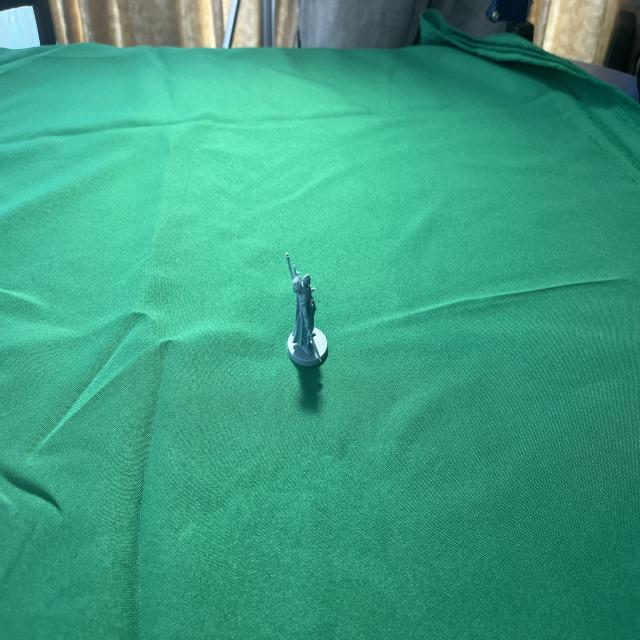isis_follower: (280, 243, 330, 374)
